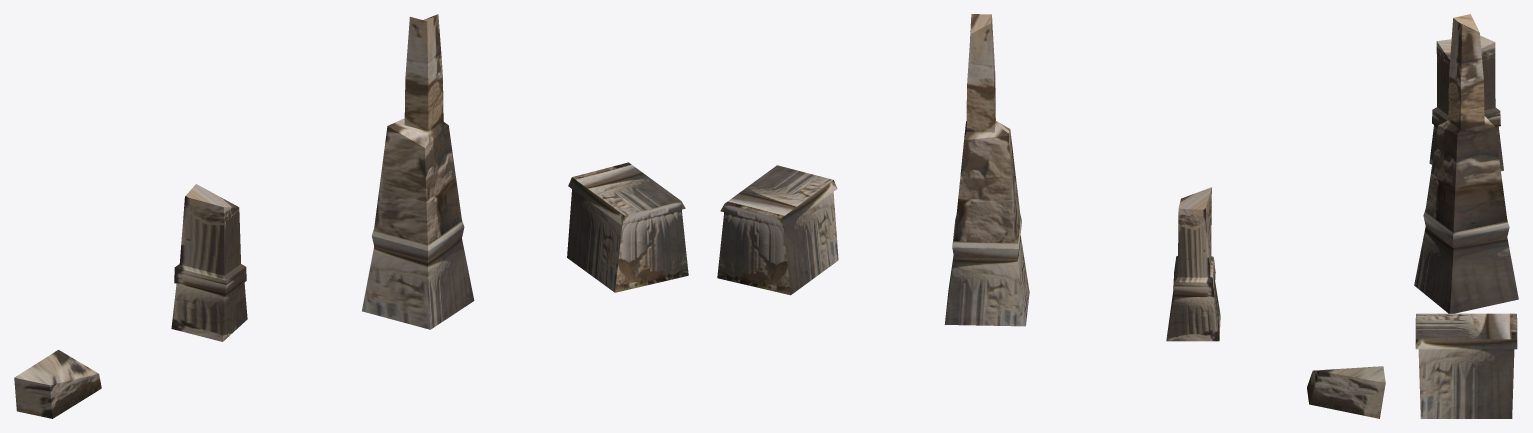
Rendered from RUINS1.obj.
3 renders of one model, left to right at view 1: azimuth 30°, elevation 25°; view 2: azimuth 150°, elevation 25°; view 3: azimuth 270°, elevation 25°, orthographic. The views are drawn at different scales.
Parts seen in each view (by area): view 1: Cube.001_Cube.002, Cube_Cube.001, Cube.002_Cube.003, Cube.003_Cube.004; view 2: Cube.001_Cube.002, Cube_Cube.001, Cube.002_Cube.003, Cube.003_Cube.004; view 3: Cube.001_Cube.002, Cube_Cube.001, Cube.002_Cube.003.
Part boxes in pixels (x1,y1,x2,y2): Cube.001_Cube.002: (362, 14, 474, 329); Cube_Cube.001: (567, 162, 688, 292); Cube.002_Cube.003: (171, 184, 247, 341); Cube.003_Cube.004: (14, 350, 101, 418); Cube.001_Cube.002: (944, 14, 1029, 326); Cube_Cube.001: (717, 165, 838, 295); Cube.002_Cube.003: (1166, 187, 1220, 341); Cube.003_Cube.004: (1307, 366, 1385, 418); Cube.001_Cube.002: (1414, 14, 1518, 313); Cube_Cube.001: (1415, 313, 1517, 418); Cube.002_Cube.003: (1429, 35, 1503, 171).
Size of the model in its own units: 4.44 by 1.97 by 0.6512.
